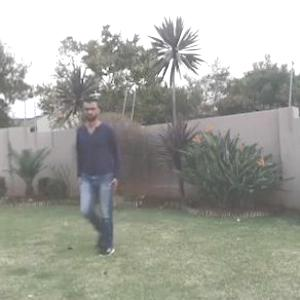follow: (77, 96, 119, 244)
